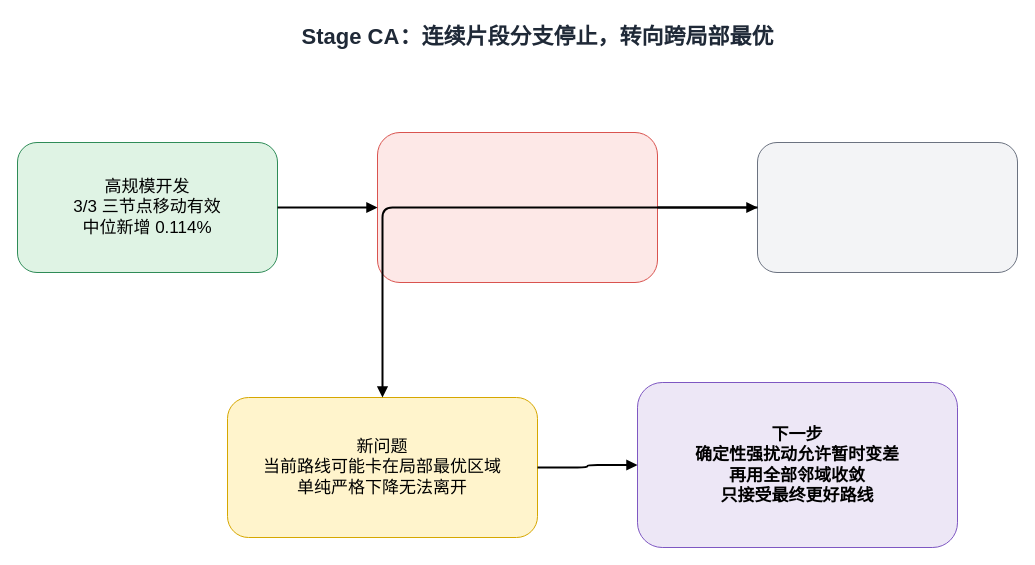
This 1035x565 diagram has some shape labels left out. Each missing label, with the box of its shape:
外部 28 实例 5 改善 / 23 不变 中位新增 0: (376, 132, 658, 282)
正式决定 停止长度 4/5 不继续扩大同类片段: (756, 142, 1018, 272)
